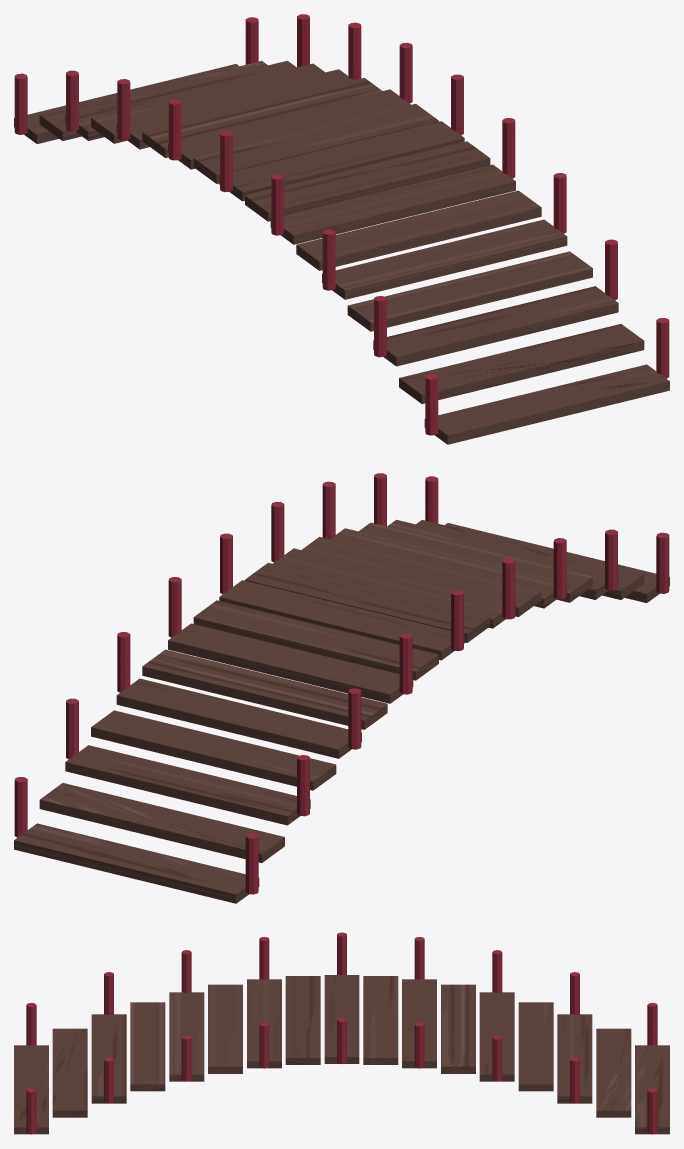
The model's file is shogun_canal_arch_bridge_lod1.glb.
3 views of the same model, one above another, from view 1: azimuth 30°, elevation 25°; view 2: azimuth 150°, elevation 25°; view 3: azimuth 270°, elevation 25° (orthographic). The views are drawn at different scales.
Visible parts, largest first — view 1: shogun_canal_arch_bridge_012, shogun_canal_arch_bridge_016, shogun_canal_arch_bridge_014, shogun_canal_arch_bridge_010, shogun_canal_arch_bridge_015, shogun_canal_arch_bridge_011, shogun_canal_arch_bridge_013, shogun_canal_arch_bridge_009, shogun_canal_arch_bridge_008, shogun_canal_arch_bridge_007, shogun_canal_arch_bridge_006, shogun_canal_arch_bridge_005 (+23 smaller); view 2: shogun_canal_arch_bridge_004, shogun_canal_arch_bridge_000, shogun_canal_arch_bridge_002, shogun_canal_arch_bridge_006, shogun_canal_arch_bridge_001, shogun_canal_arch_bridge_005, shogun_canal_arch_bridge_003, shogun_canal_arch_bridge_007, shogun_canal_arch_bridge_008, shogun_canal_arch_bridge_009, shogun_canal_arch_bridge_010, shogun_canal_arch_bridge_011 (+23 smaller); view 3: shogun_canal_arch_bridge_001, shogun_canal_arch_bridge_003, shogun_canal_arch_bridge_013, shogun_canal_arch_bridge_015, shogun_canal_arch_bridge_007, shogun_canal_arch_bridge_009, shogun_canal_arch_bridge_005, shogun_canal_arch_bridge_011, shogun_canal_arch_bridge_004, shogun_canal_arch_bridge_012, shogun_canal_arch_bridge_002, shogun_canal_arch_bridge_014 (+23 smaller).
Boxes of the visible parts, x1=… form: shogun_canal_arch_bridge_012: x1=322, y1=219, x2=567, y2=299; shogun_canal_arch_bridge_016: x1=424, y1=364, x2=669, y2=444; shogun_canal_arch_bridge_014: x1=373, y1=286, x2=618, y2=366; shogun_canal_arch_bridge_010: x1=270, y1=164, x2=515, y2=244; shogun_canal_arch_bridge_015: x1=399, y1=324, x2=644, y2=403; shogun_canal_arch_bridge_011: x1=296, y1=190, x2=541, y2=270; shogun_canal_arch_bridge_013: x1=347, y1=251, x2=592, y2=331; shogun_canal_arch_bridge_009: x1=245, y1=141, x2=490, y2=221; shogun_canal_arch_bridge_008: x1=219, y1=121, x2=464, y2=201; shogun_canal_arch_bridge_007: x1=193, y1=104, x2=438, y2=183; shogun_canal_arch_bridge_006: x1=168, y1=89, x2=410, y2=169; shogun_canal_arch_bridge_005: x1=142, y1=78, x2=382, y2=157; shogun_canal_arch_bridge_004: x1=116, y1=678, x2=361, y2=758; shogun_canal_arch_bridge_000: x1=14, y1=823, x2=259, y2=903; shogun_canal_arch_bridge_002: x1=65, y1=745, x2=310, y2=825; shogun_canal_arch_bridge_006: x1=168, y1=623, x2=413, y2=703; shogun_canal_arch_bridge_001: x1=39, y1=783, x2=284, y2=862; shogun_canal_arch_bridge_005: x1=142, y1=649, x2=387, y2=729; shogun_canal_arch_bridge_003: x1=91, y1=710, x2=336, y2=790; shogun_canal_arch_bridge_007: x1=193, y1=600, x2=438, y2=680; shogun_canal_arch_bridge_008: x1=219, y1=580, x2=464, y2=660; shogun_canal_arch_bridge_009: x1=245, y1=563, x2=490, y2=642; shogun_canal_arch_bridge_010: x1=273, y1=548, x2=515, y2=628; shogun_canal_arch_bridge_011: x1=301, y1=537, x2=541, y2=616; shogun_canal_arch_bridge_001: x1=596, y1=1028, x2=631, y2=1117; shogun_canal_arch_bridge_003: x1=518, y1=1002, x2=553, y2=1091; shogun_canal_arch_bridge_013: x1=130, y1=1002, x2=165, y2=1091; shogun_canal_arch_bridge_015: x1=52, y1=1028, x2=87, y2=1117; shogun_canal_arch_bridge_007: x1=363, y1=976, x2=398, y2=1064; shogun_canal_arch_bridge_009: x1=285, y1=976, x2=320, y2=1064; shogun_canal_arch_bridge_005: x1=441, y1=984, x2=475, y2=1073; shogun_canal_arch_bridge_011: x1=208, y1=984, x2=242, y2=1073; shogun_canal_arch_bridge_004: x1=479, y1=992, x2=514, y2=1081; shogun_canal_arch_bridge_012: x1=169, y1=992, x2=204, y2=1081; shogun_canal_arch_bridge_002: x1=557, y1=1014, x2=592, y2=1103; shogun_canal_arch_bridge_014: x1=91, y1=1014, x2=126, y2=1103.
Bounding box in the file's own units: 5.46 × 3.3 × 16.9.
2 materials, 2 textured.
